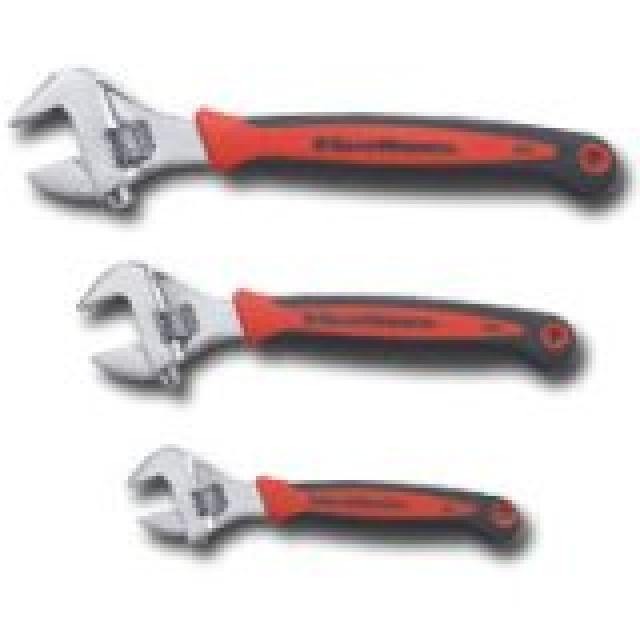wrench: (1, 57, 618, 227), (55, 242, 599, 410), (110, 426, 541, 570)
